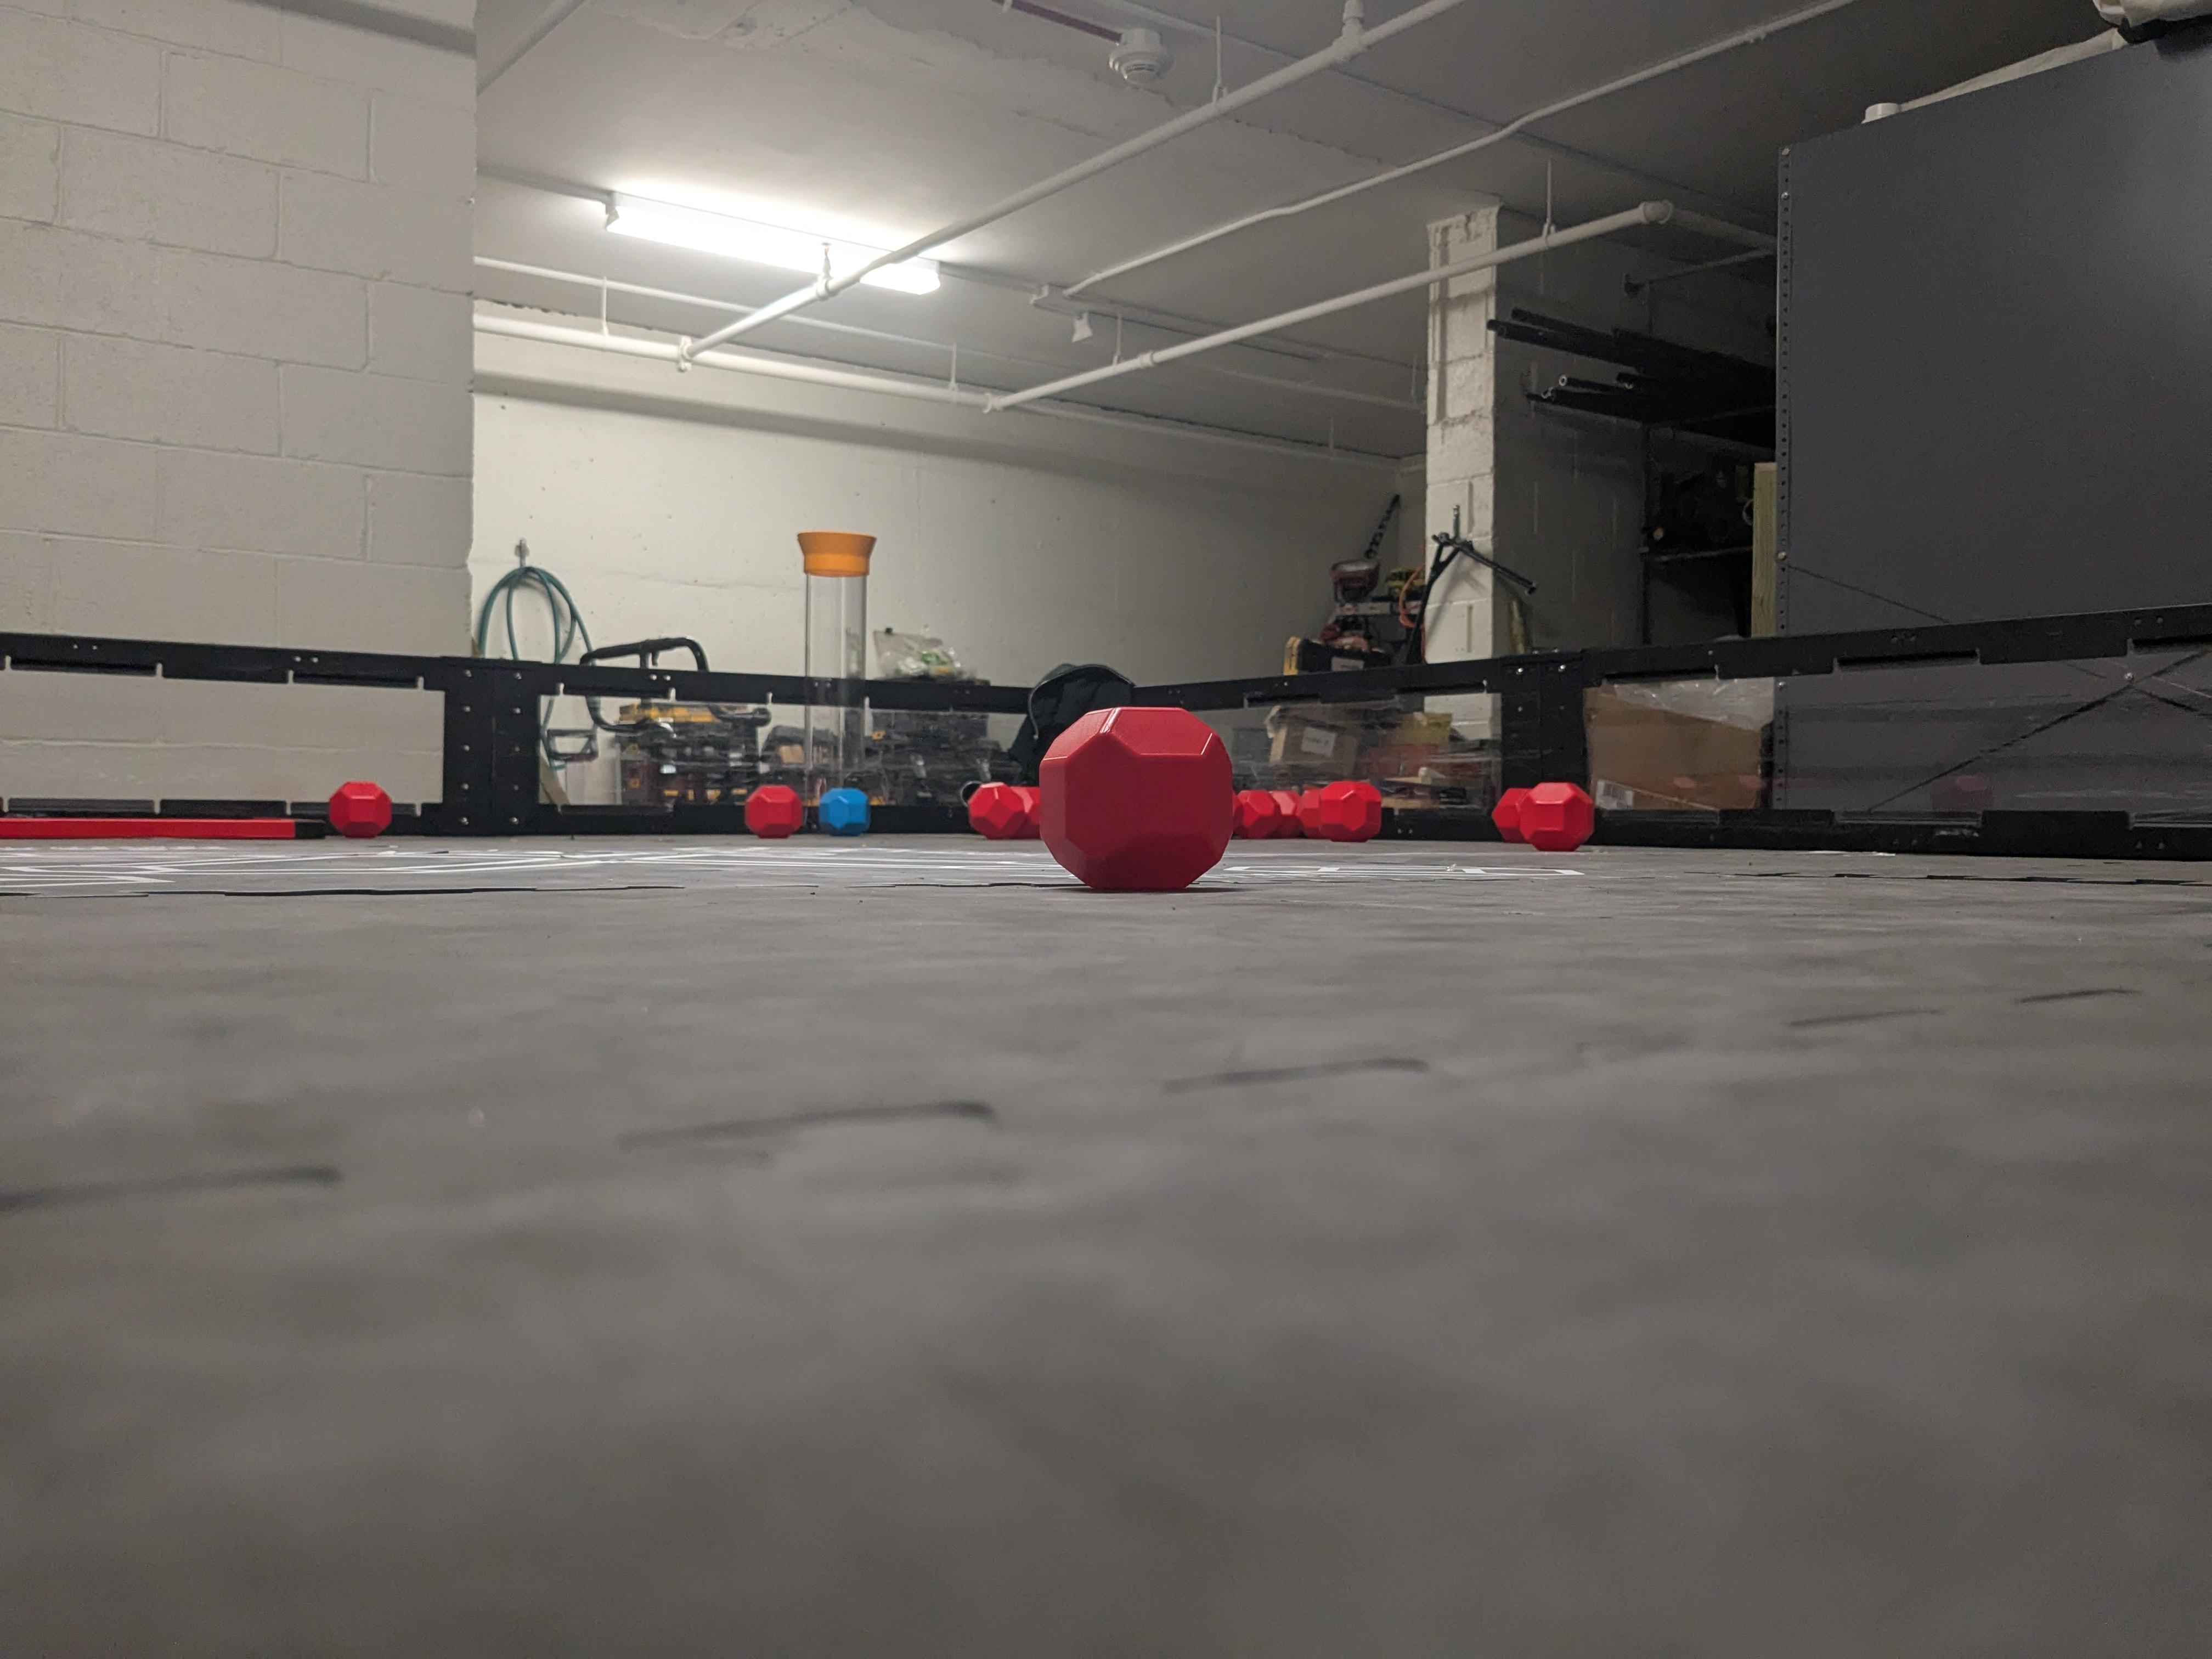Vex-Pieces-BLUE: (817, 786, 869, 836)
Vex-Pieces-RED: (1036, 706, 1235, 890), (1491, 782, 1594, 850), (967, 782, 1038, 838), (1318, 781, 1381, 842), (327, 781, 392, 838), (744, 784, 805, 838), (1233, 789, 1292, 838), (1294, 786, 1322, 838)
